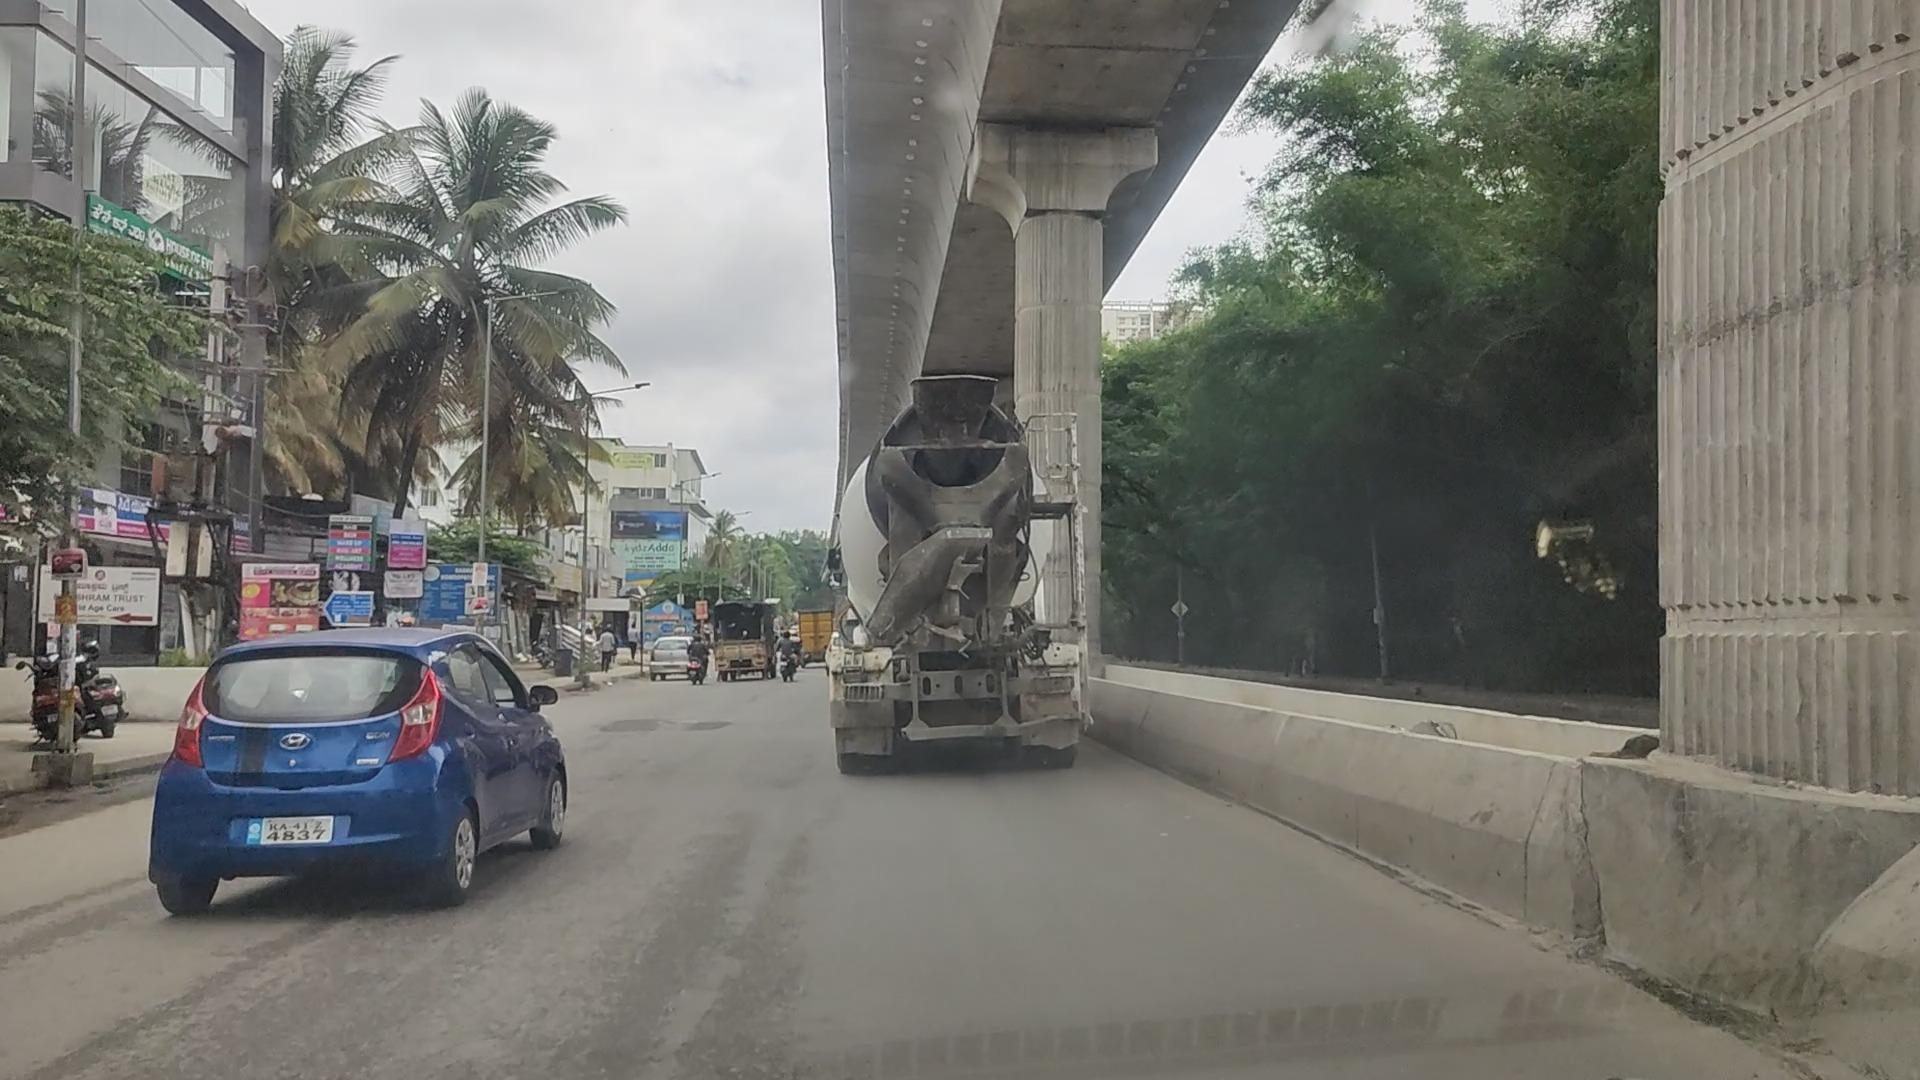HMV: (819, 378, 1080, 764)
LMV: (150, 632, 572, 909)
RoadDamages: (595, 703, 744, 745)
